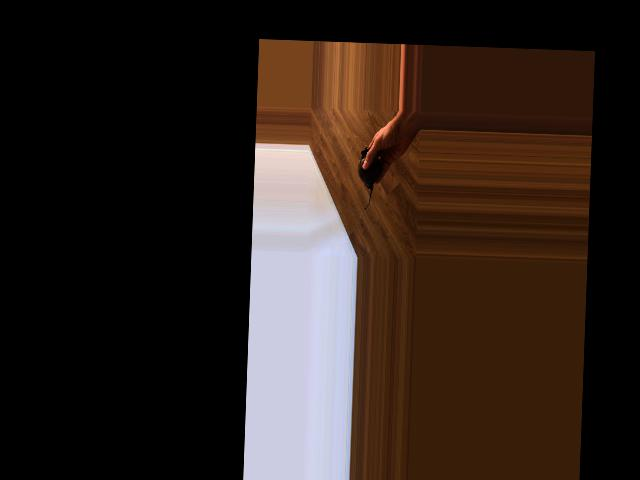beet: (357, 147, 381, 210)
